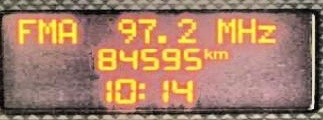-: (156, 33, 166, 45)
0: (113, 77, 137, 104)
1: (102, 77, 112, 104), (159, 78, 169, 102)
2: (174, 15, 197, 43)
4: (169, 77, 194, 102), (117, 47, 139, 70)
5: (140, 46, 157, 70), (183, 46, 200, 69)
7: (135, 16, 156, 42)
8: (95, 46, 115, 71)
9: (159, 45, 180, 70), (116, 17, 135, 44)
X: (214, 17, 236, 45), (35, 18, 57, 45), (237, 16, 256, 45), (14, 17, 34, 44), (58, 17, 76, 46), (256, 23, 277, 43), (202, 46, 215, 60), (214, 49, 228, 61), (138, 81, 145, 99)
